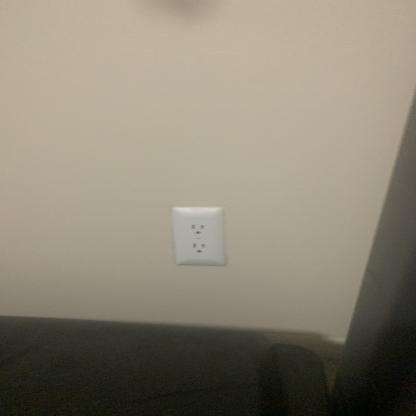OUTLET: (171, 207, 227, 266)
